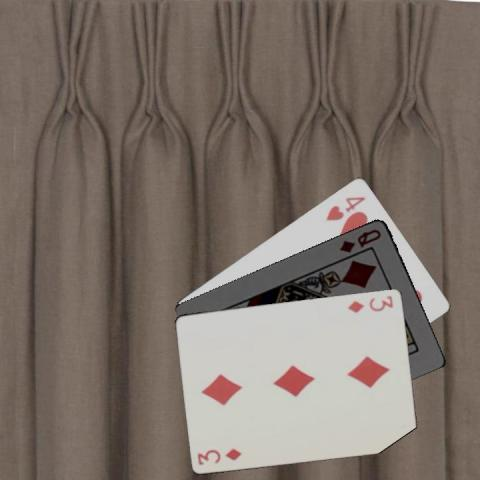3d: (344, 292, 394, 314), (194, 445, 243, 466)
4h: (324, 193, 368, 222)
Qd: (336, 225, 383, 254)
